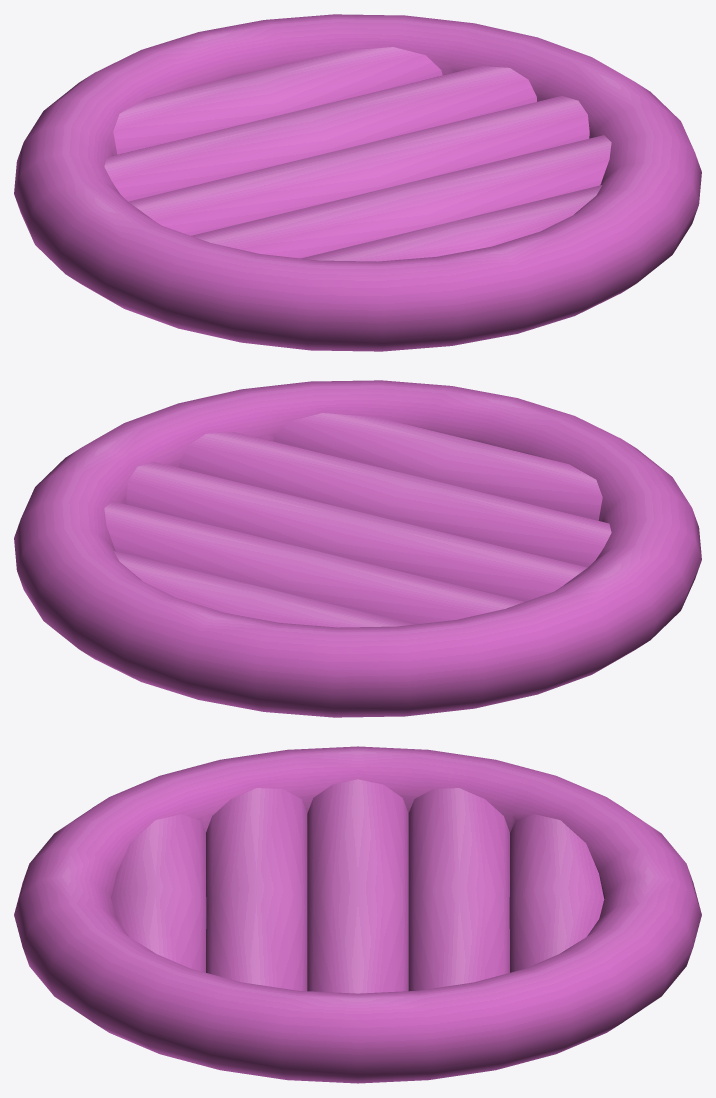
The model's file is tube_round_pink.fbx.
The picture shows the model from 3 angles, top to bottom: view 1: azimuth 30°, elevation 25°; view 2: azimuth 150°, elevation 25°; view 3: azimuth 270°, elevation 25°; orthographic projection.
Visible parts, largest first — view 1: tube_round_pink; view 2: tube_round_pink; view 3: tube_round_pink.
Boxes of the visible parts, bbox=[...] form: tube_round_pink: bbox=[14, 14, 701, 351]; tube_round_pink: bbox=[14, 380, 701, 717]; tube_round_pink: bbox=[14, 746, 701, 1083].
Size of the model in its own units: 80 by 10.09 by 80.
